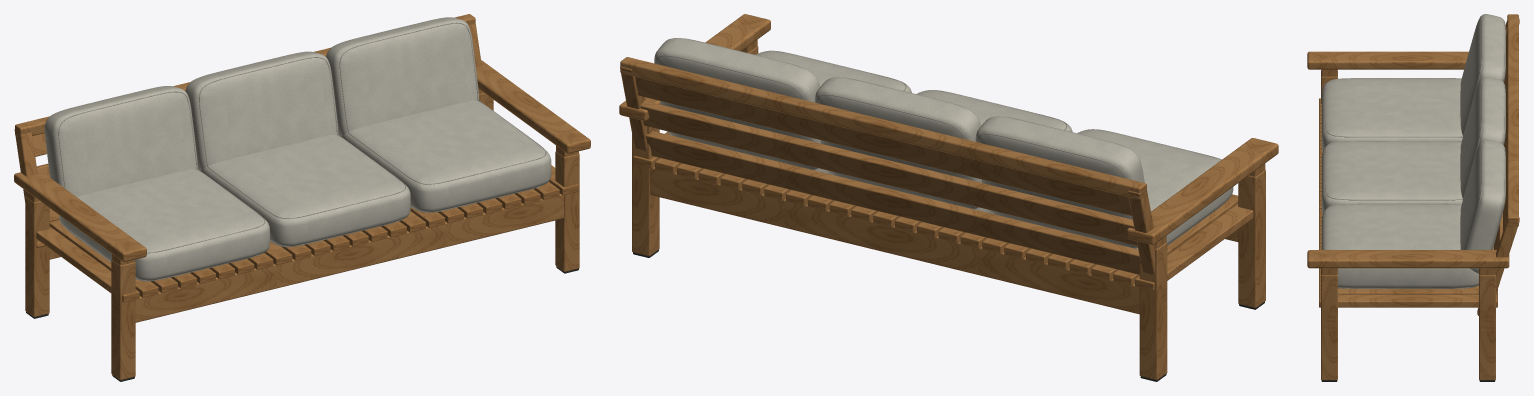
3 renders of one model, left to right at view 1: azimuth 30°, elevation 25°; view 2: azimuth 150°, elevation 25°; view 3: azimuth 270°, elevation 25°, orthographic. The views are drawn at different scales.
Parts seen in each view (by area): view 1: Canvas | stone seat cushion.002, Canvas | stone seat cushion.001, Canvas | stone seat cushion, Canvas | stone back cushion.002, Canvas | stone back cushion, Canvas | stone back cushion.001, Teak | long platform rail, Teak | broad arm cap, Teak | broad arm cap.001, Teak | square corner leg, Teak | square corner leg.001, Teak | square corner leg.002 (+4 smaller); view 2: Teak | long platform rail.001, Teak | long open back slat, Teak | long open back slat.001, Teak | top back cap, Teak | long open back slat.002, Canvas | stone back cushion, Canvas | stone back cushion.001, Canvas | stone back cushion.002, Teak | broad arm cap, Canvas | stone seat cushion, Teak | square corner leg, Teak | square corner leg.001 (+8 smaller); view 3: Canvas | stone seat cushion.002, Canvas | stone seat cushion, Canvas | stone seat cushion.001, Canvas | stone back cushion.002, Teak | broad arm cap.001, Teak | broad arm cap, Canvas | stone back cushion.001, Canvas | stone back cushion, Teak | top back cap, Teak | platform slat.023, Teak | square corner leg.002, Teak | square corner leg.003 (+7 smaller).
Part boxes in pixels (x1=…): Canvas | stone seat cushion.002: x1=341, y1=100, x2=551, y2=212; Canvas | stone seat cushion.001: x1=200, y1=135, x2=410, y2=246; Canvas | stone seat cushion: x1=59, y1=169, x2=270, y2=280; Canvas | stone back cushion.002: x1=326, y1=17, x2=479, y2=136; Canvas | stone back cushion: x1=44, y1=86, x2=197, y2=196; Canvas | stone back cushion.001: x1=185, y1=51, x2=338, y2=170; Teak | long platform rail: x1=112, y1=193, x2=563, y2=324; Teak | broad arm cap: x1=14, y1=172, x2=146, y2=261; Teak | broad arm cap.001: x1=476, y1=60, x2=590, y2=153; Teak | square corner leg: x1=111, y1=259, x2=135, y2=380; Teak | square corner leg.001: x1=25, y1=196, x2=49, y2=317; Teak | square corner leg.002: x1=555, y1=151, x2=579, y2=271; Teak | long platform rail.001: x1=650, y1=166, x2=1166, y2=315; Teak | long open back slat: x1=646, y1=131, x2=1140, y2=274; Teak | long open back slat.001: x1=640, y1=100, x2=1137, y2=245; Teak | top back cap: x1=620, y1=57, x2=1146, y2=199; Teak | long open back slat.002: x1=635, y1=76, x2=1131, y2=215; Canvas | stone back cushion: x1=975, y1=116, x2=1144, y2=248; Canvas | stone back cushion.001: x1=815, y1=77, x2=981, y2=209; Canvas | stone back cushion.002: x1=654, y1=38, x2=820, y2=170; Teak | broad arm cap: x1=1127, y1=138, x2=1278, y2=244; Canvas | stone seat cushion: x1=1078, y1=129, x2=1233, y2=249; Teak | square corner leg: x1=1238, y1=170, x2=1265, y2=307; Teak | square corner leg.001: x1=1139, y1=242, x2=1167, y2=379; Canvas | stone seat cushion.002: x1=1321, y1=204, x2=1478, y2=288; Canvas | stone seat cushion: x1=1321, y1=78, x2=1462, y2=151; Canvas | stone seat cushion.001: x1=1321, y1=141, x2=1462, y2=213; Canvas | stone back cushion.002: x1=1460, y1=139, x2=1505, y2=273; Teak | broad arm cap.001: x1=1307, y1=250, x2=1509, y2=268; Teak | broad arm cap: x1=1307, y1=51, x2=1468, y2=69; Canvas | stone back cushion.001: x1=1460, y1=77, x2=1505, y2=198; Canvas | stone back cushion: x1=1460, y1=14, x2=1505, y2=135; Teak | top back cap: x1=1507, y1=14, x2=1518, y2=226; Teak | platform slat.023: x1=1319, y1=294, x2=1497, y2=307; Teak | square corner leg.002: x1=1321, y1=269, x2=1337, y2=380; Teak | square corner leg.003: x1=1479, y1=269, x2=1495, y2=380.
Size of the model in its own units: 2.21 by 0.8768 by 0.9452.
Materials: 4 (2 with a texture image).
